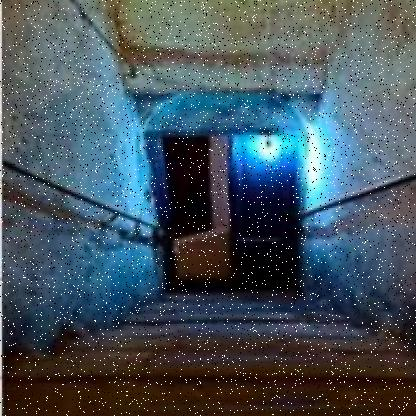stair_down: (69, 302, 356, 406)
